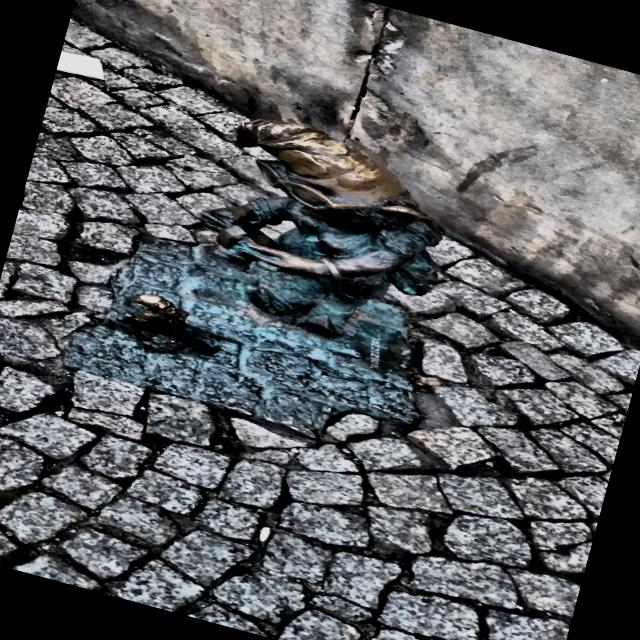Troszka i Adoratorek: (61, 118, 439, 442)
